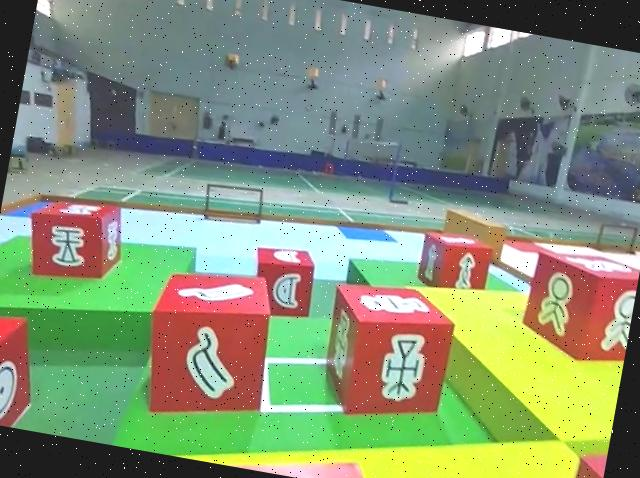R2 Real: (132, 255, 287, 435), (311, 274, 463, 434), (515, 241, 640, 367), (17, 185, 135, 293), (243, 237, 323, 325), (413, 227, 496, 299), (0, 308, 47, 430)
